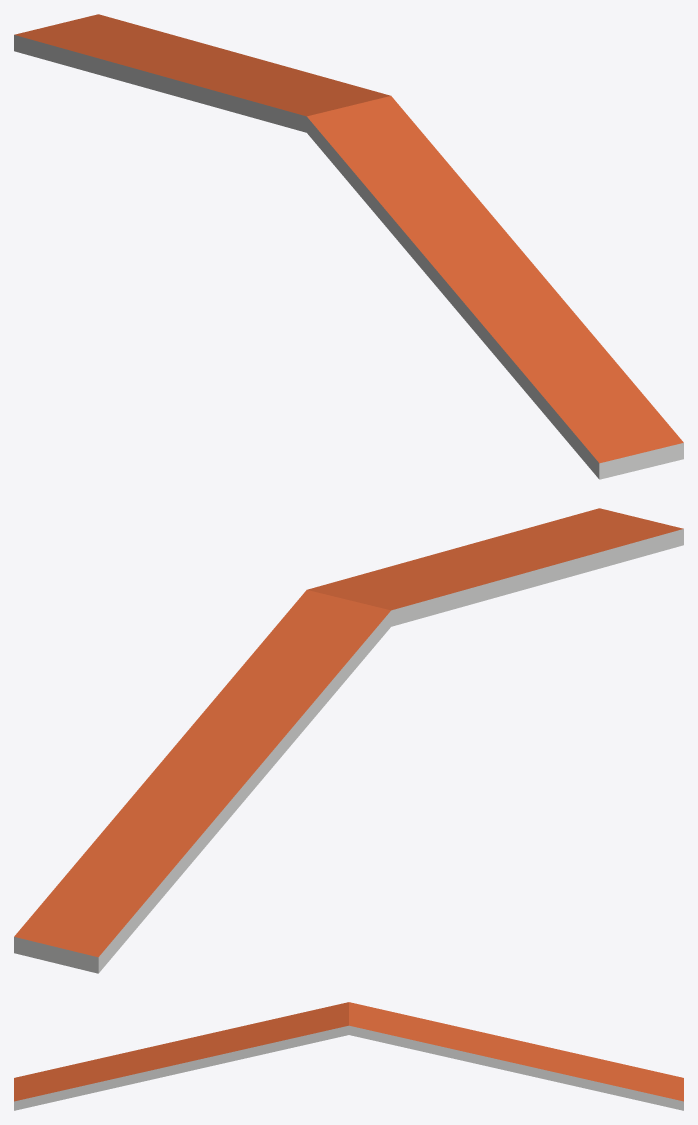
Rendered from telhado_duas_aguas_v6_i25_0_5m.glb.
3 renders of one model, top to bottom at view 1: azimuth 30°, elevation 25°; view 2: azimuth 150°, elevation 25°; view 3: azimuth 270°, elevation 25°, orthographic. The views are drawn at different scales.
Visible parts, largest first — view 1: telhado_duas_aguas_v6_i25_0_5m; view 2: telhado_duas_aguas_v6_i25_0_5m; view 3: telhado_duas_aguas_v6_i25_0_5m.
Part boxes in pixels (bbox=[...]): telhado_duas_aguas_v6_i25_0_5m: bbox=[14, 14, 683, 479]; telhado_duas_aguas_v6_i25_0_5m: bbox=[14, 508, 683, 973]; telhado_duas_aguas_v6_i25_0_5m: bbox=[14, 1002, 683, 1110].
Bounding box in the file's own units: 0.5 × 0.8428 × 6.
